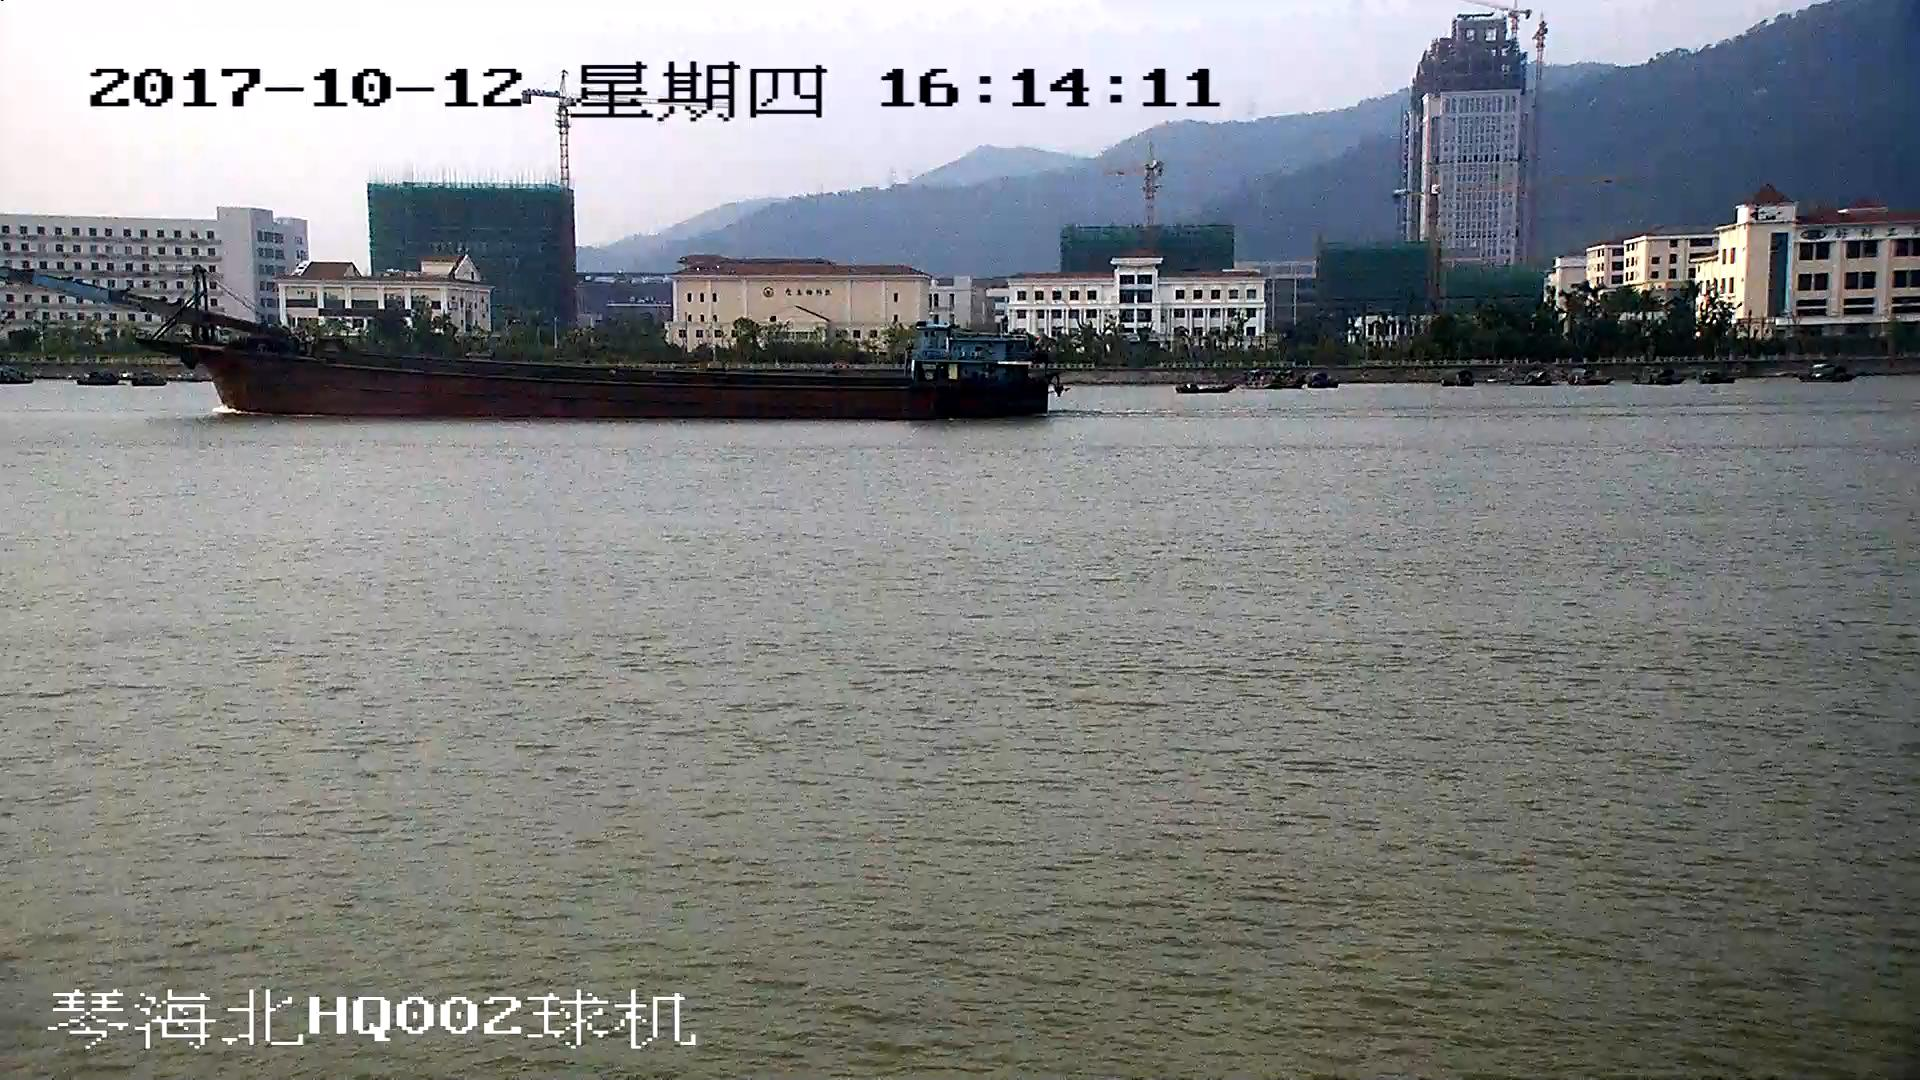bulk cargo carrier: (1, 265, 1053, 422)
